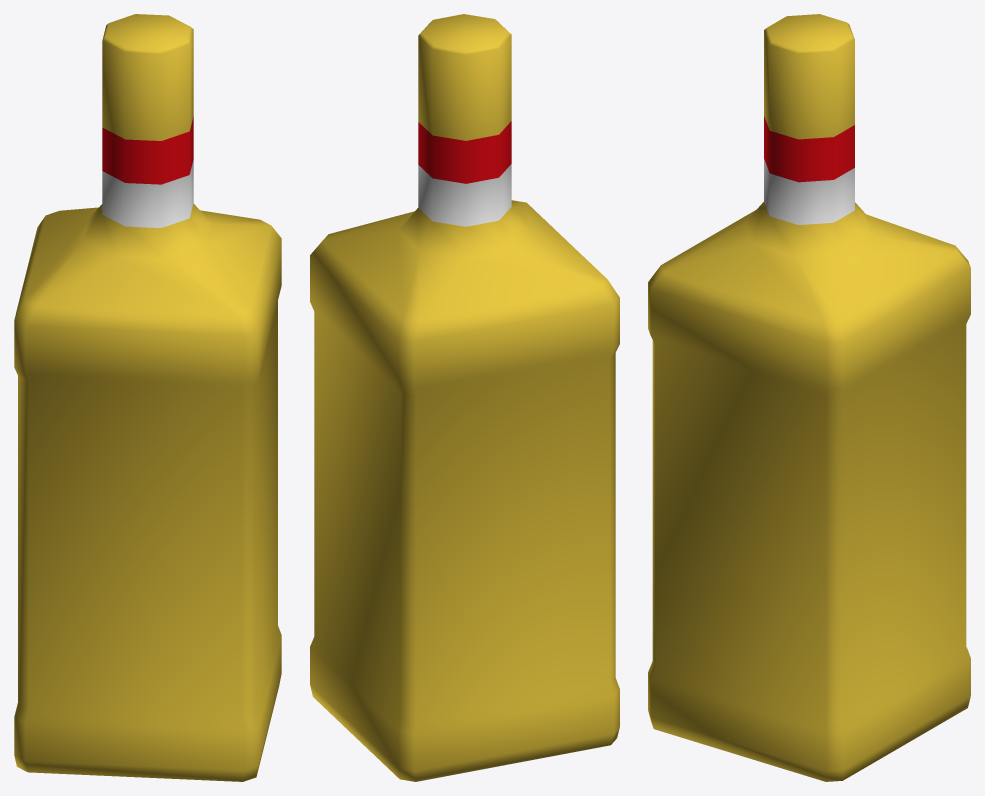
The model's file is Goldboy.fbx.
The picture shows the model from 3 angles, left to right: view 1: azimuth 30°, elevation 25°; view 2: azimuth 150°, elevation 25°; view 3: azimuth 270°, elevation 25°; orthographic projection.
Visible parts, largest first — view 1: GoldBoy; view 2: GoldBoy; view 3: GoldBoy.
Part boxes in pixels (bbox=[...]): GoldBoy: bbox=[14, 14, 281, 781]; GoldBoy: bbox=[310, 14, 619, 781]; GoldBoy: bbox=[648, 14, 970, 781].
Size of the model in its own units: 9.98 by 23.49 by 9.98.
